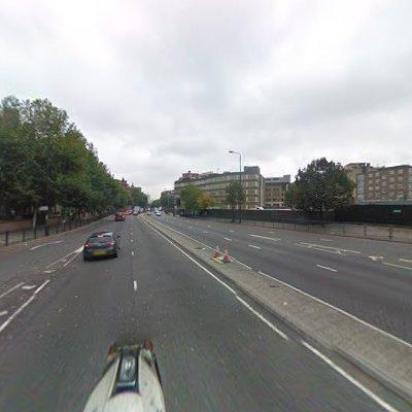moving-car: (82, 231, 119, 260), (154, 210, 162, 218), (133, 210, 139, 216), (146, 211, 152, 215), (124, 211, 130, 215)
moving-light-truck: (114, 211, 124, 223)
moving-motorcycle: (77, 331, 166, 411)
